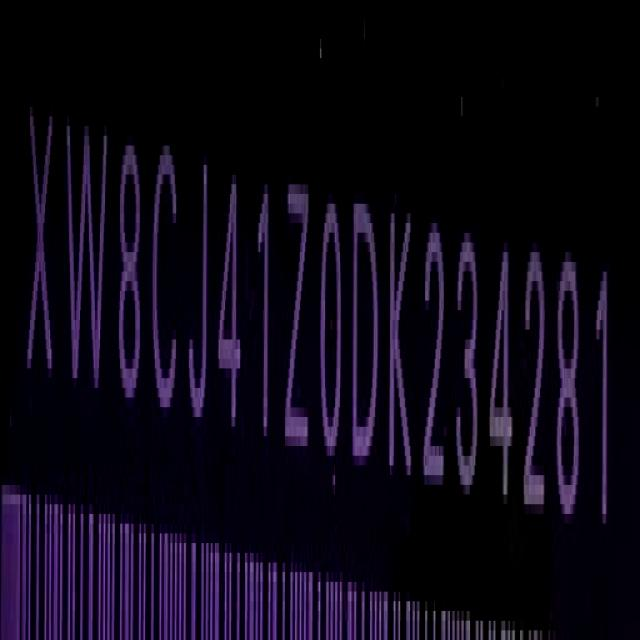0: (317, 154, 343, 470)
1: (595, 233, 611, 542), (255, 172, 272, 446)
2: (420, 198, 447, 499), (523, 233, 546, 528)
3: (455, 205, 480, 506)
4: (485, 212, 515, 517), (215, 133, 245, 431)
8: (554, 223, 584, 546), (118, 133, 144, 413)
C: (152, 133, 178, 434)
D: (350, 190, 381, 470)
J: (187, 140, 210, 438)
K: (386, 183, 414, 496)
W: (64, 97, 111, 409)
X: (25, 76, 56, 434)
Z: (280, 151, 314, 467)
